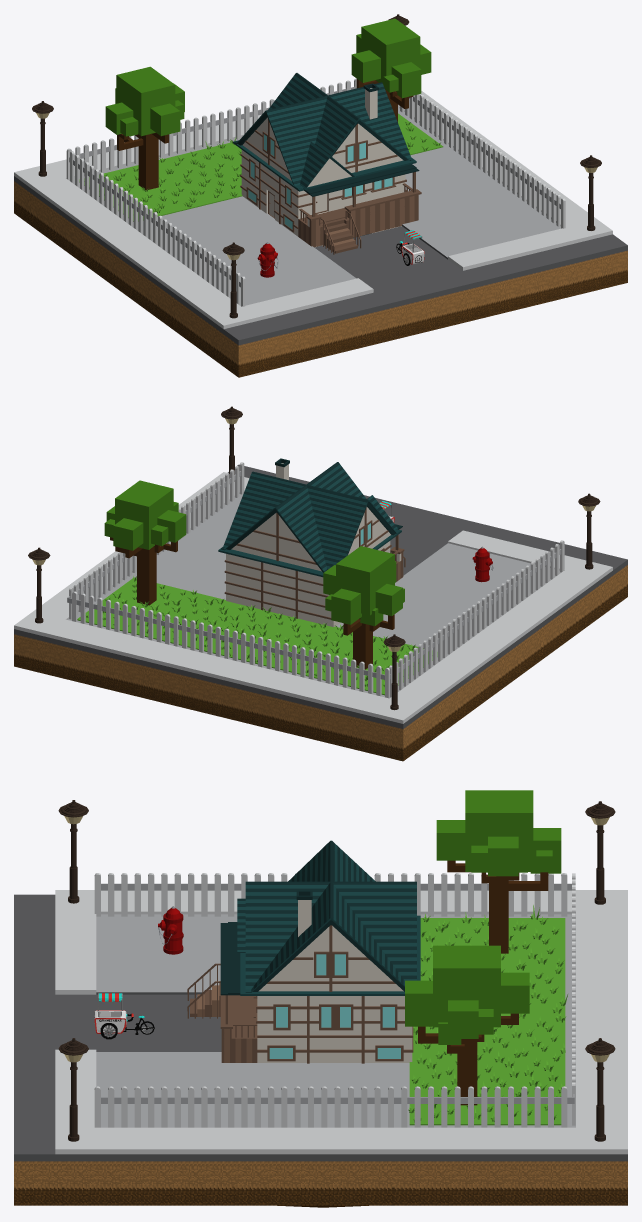
3 renders of one model, top to bottom at view 1: azimuth 30°, elevation 25°; view 2: azimuth 150°, elevation 25°; view 3: azimuth 270°, elevation 25°, orthographic. The views are drawn at different scales.
Parts seen in each view (by area): view 1: Cube.004, Cube.793, VEHICLES_SNOWBAL_BIKE, OBJRANDOM_FIRE_HYDRANT; view 2: Cube.004, Cube.793, OBJRANDOM_FIRE_HYDRANT; view 3: Cube.004, Cube.793, VEHICLES_SNOWBAL_BIKE, OBJRANDOM_FIRE_HYDRANT.
Boxes of the visible parts, bbox=[...] form: Cube.004: bbox=[14, 14, 627, 377]; Cube.793: bbox=[233, 73, 421, 254]; VEHICLES_SNOWBAL_BIKE: bbox=[396, 230, 424, 265]; OBJRANDOM_FIRE_HYDRANT: bbox=[257, 242, 278, 277]; Cube.004: bbox=[14, 406, 627, 761]; Cube.793: bbox=[218, 458, 405, 626]; OBJRANDOM_FIRE_HYDRANT: bbox=[472, 546, 493, 582]; Cube.004: bbox=[14, 790, 627, 1205]; Cube.793: bbox=[187, 840, 420, 1063]; VEHICLES_SNOWBAL_BIKE: bbox=[94, 993, 154, 1039]; OBJRANDOM_FIRE_HYDRANT: bbox=[158, 906, 183, 954].
Bounding box in the file's own units: 4000 × 1667 × 4000.
Materials: 26 (4 with a texture image).
